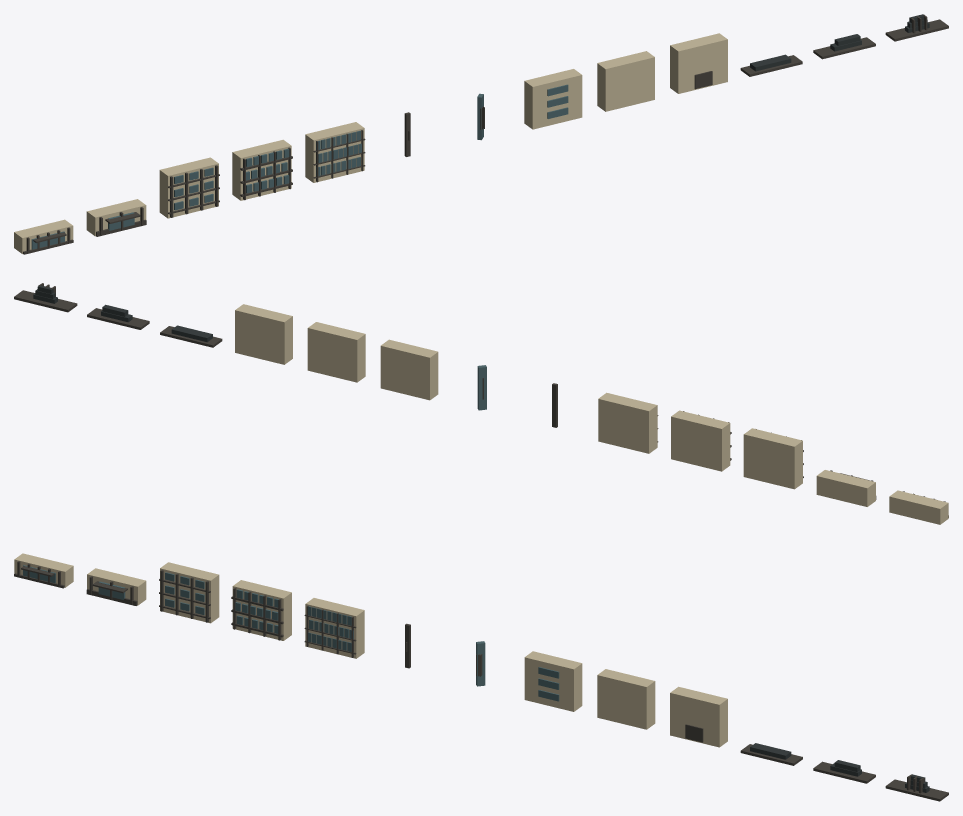
Rendered from civic-institutional.glb.
3 renders of one model, top to bottom at view 1: azimuth 30°, elevation 25°; view 2: azimuth 150°, elevation 25°; view 3: azimuth 330°, elevation 25°, orthographic.
Parts seen in each view (by area): view 1: middle-wall (×3), party-wall, rear-wall, exposed-wall, base-shell (×2), cornice; view 2: middle-wall (×3), base-shell (×2), party-wall, exposed-wall, rear-wall, cornice; view 3: middle-wall (×3), party-wall, rear-wall, exposed-wall, base-shell (×2).
Part boxes in pixels (<box>): middle-wall (×3): <box>159,122,364,218</box>; party-wall: <box>597,51,654,111</box>; rear-wall: <box>670,33,727,93</box>; exposed-wall: <box>524,69,582,129</box>; base-shell (×2): <box>14,199,146,253</box>; cornice: <box>885,19,948,41</box>; middle-wall (×3): <box>598,392,802,489</box>; base-shell (×2): <box>816,470,948,524</box>; party-wall: <box>307,322,365,382</box>; exposed-wall: <box>380,339,438,400</box>; rear-wall: <box>235,304,292,364</box>; cornice: <box>14,290,77,312</box>; middle-wall (×3): <box>160,562,364,658</box>; party-wall: <box>597,669,655,729</box>; rear-wall: <box>670,686,727,747</box>; exposed-wall: <box>524,651,582,711</box>; base-shell (×2): <box>14,553,146,605</box>.
Bounding box in the file's own units: 63.61 × 2.8 × 1.6.
